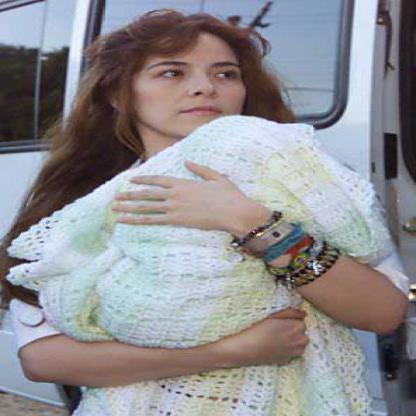face: (124, 19, 253, 139)
